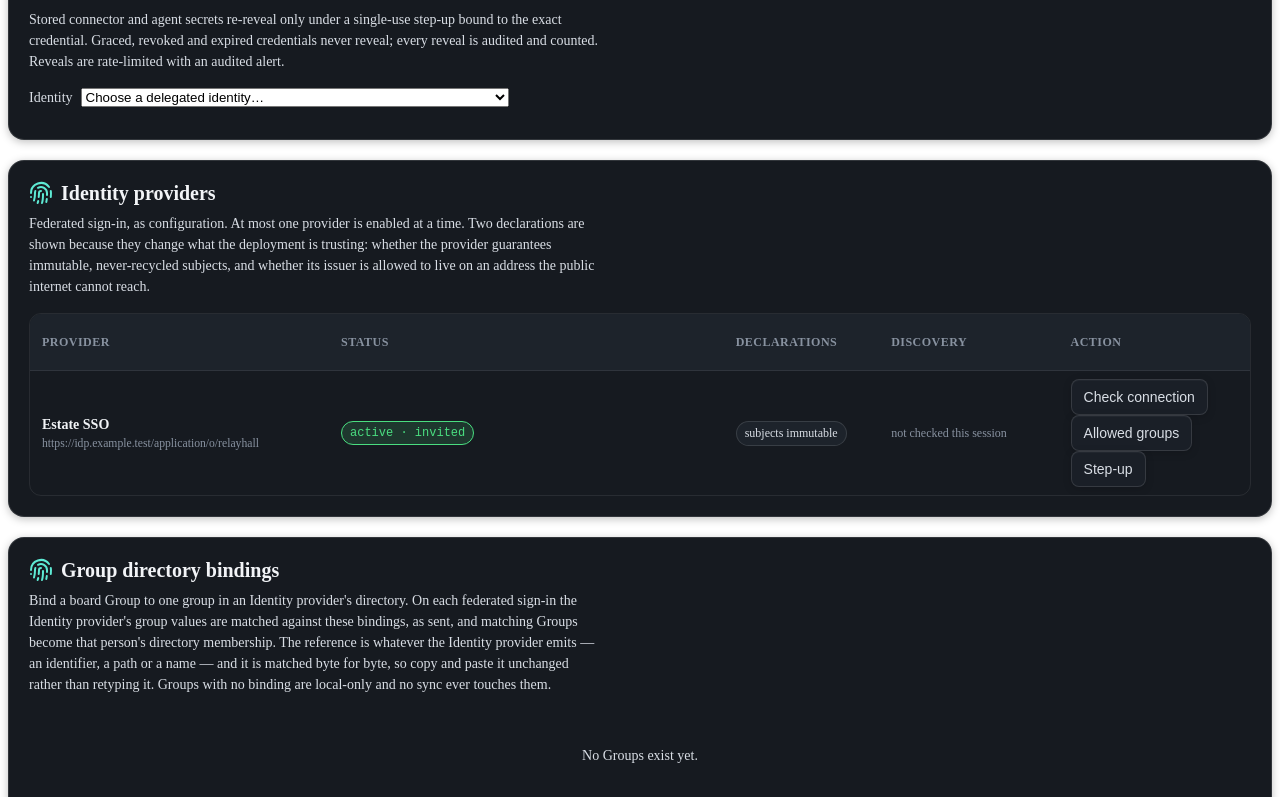
Test case: discovery health is reported honestly › a warmed cache reports when, and a cold one says cold rather than down
(page scrolled)
Expected: the text "Estate SSO" is shown, [42,416,109,432]
Click the button "Check connection". click: coordinates (1139, 397)
box: [1071,379,1208,415]
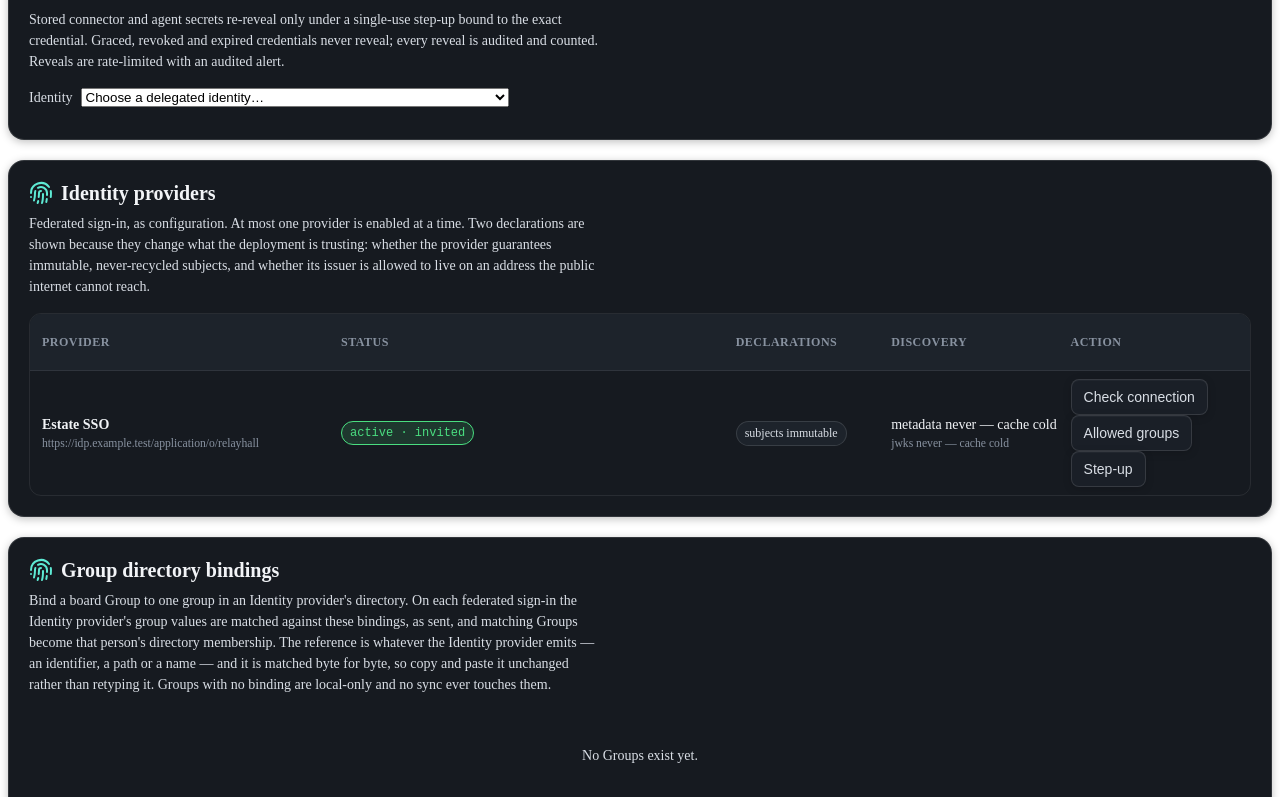
Expected: the text "jwks never — cache cold" is shown, [891,436,1009,450]
Expected: the text "metadata never — cache cold jwks never — cache cold" is shown, [891,416,1059,450]
